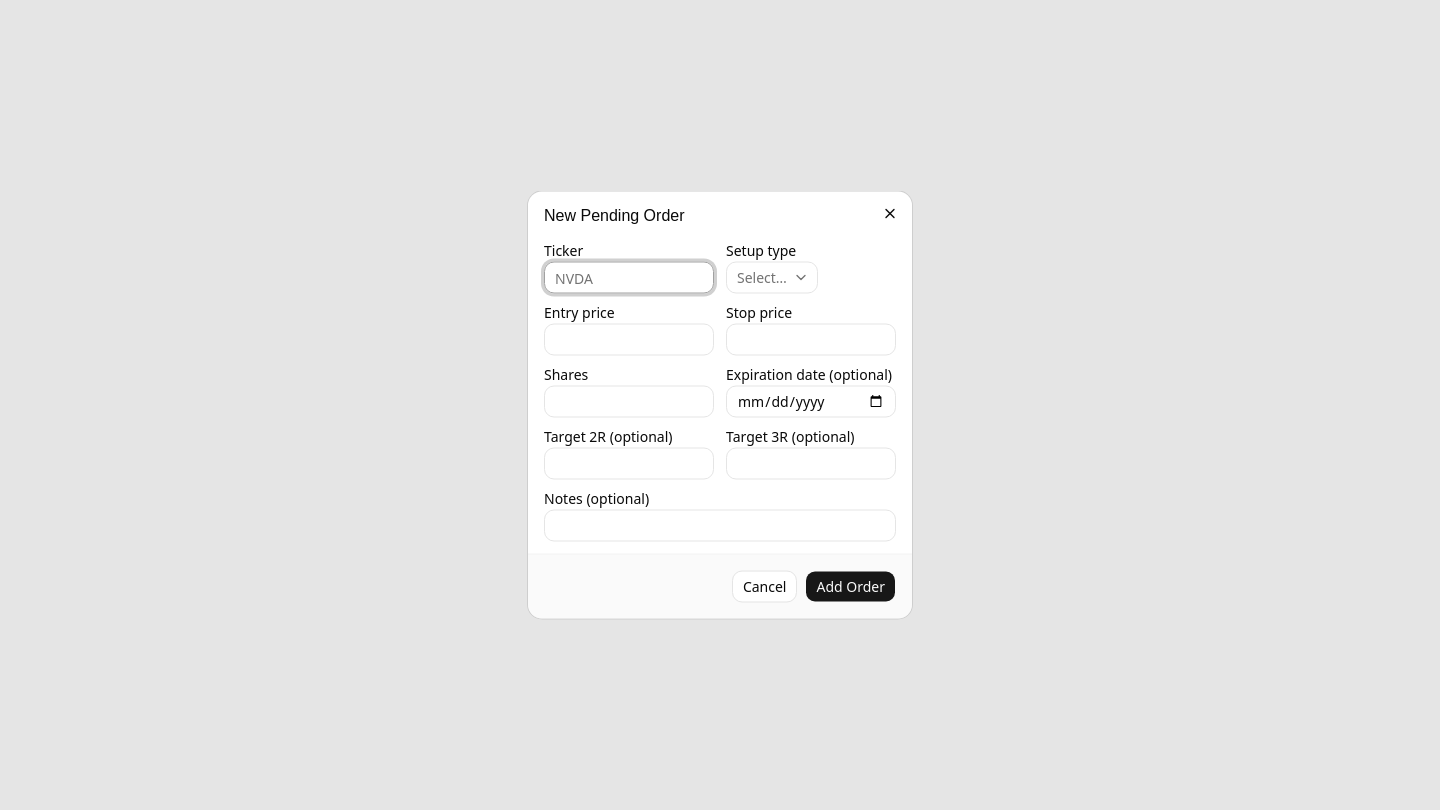
S15 – validation failures › ticker empty → error, no POST
The width and height of the screenshot is (1440, 810).
In the number field labelled "Entry price": (629, 340) [544,324,714,356], type "900"
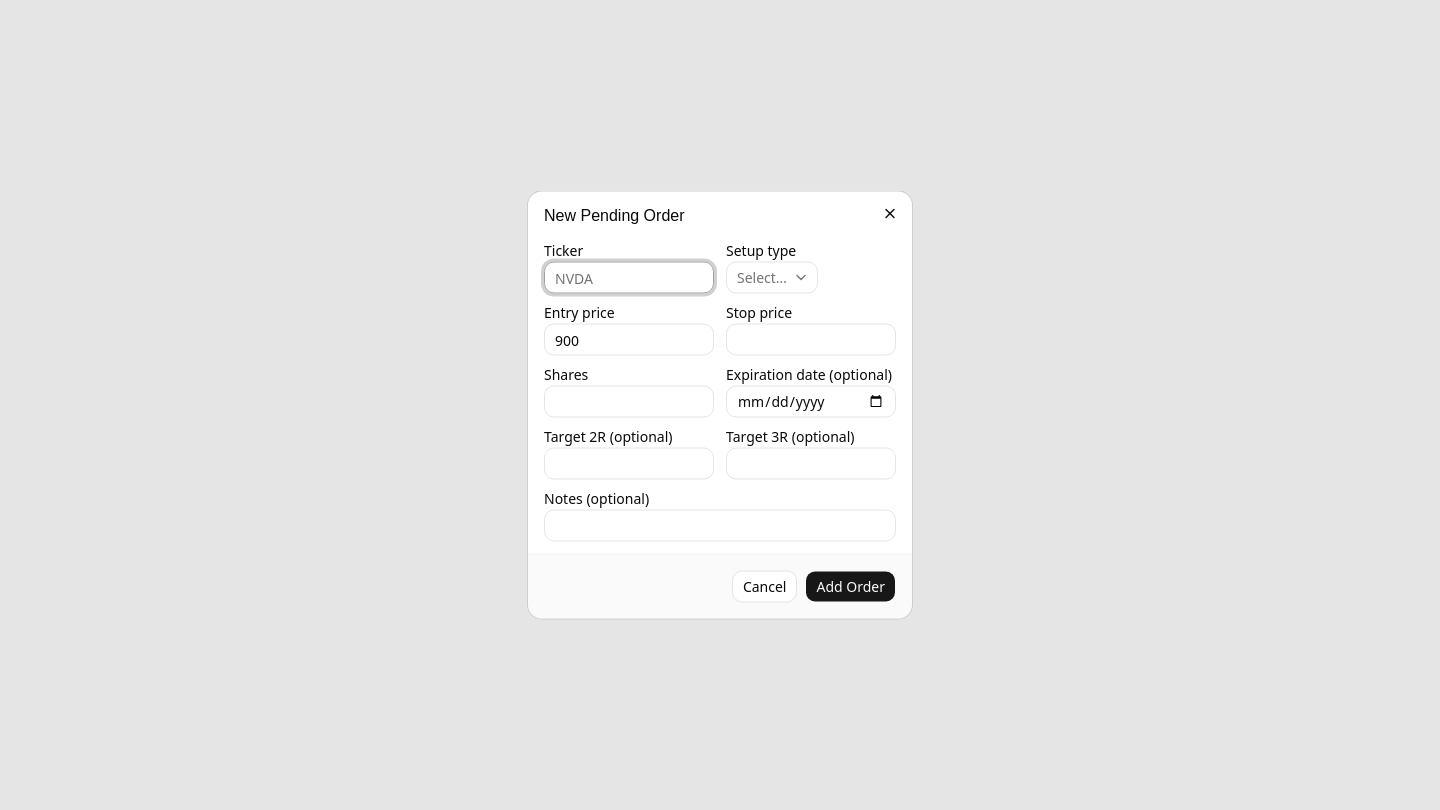
In the number field labelled "Stop price": (811, 340) [726,324,896,356], type "860"
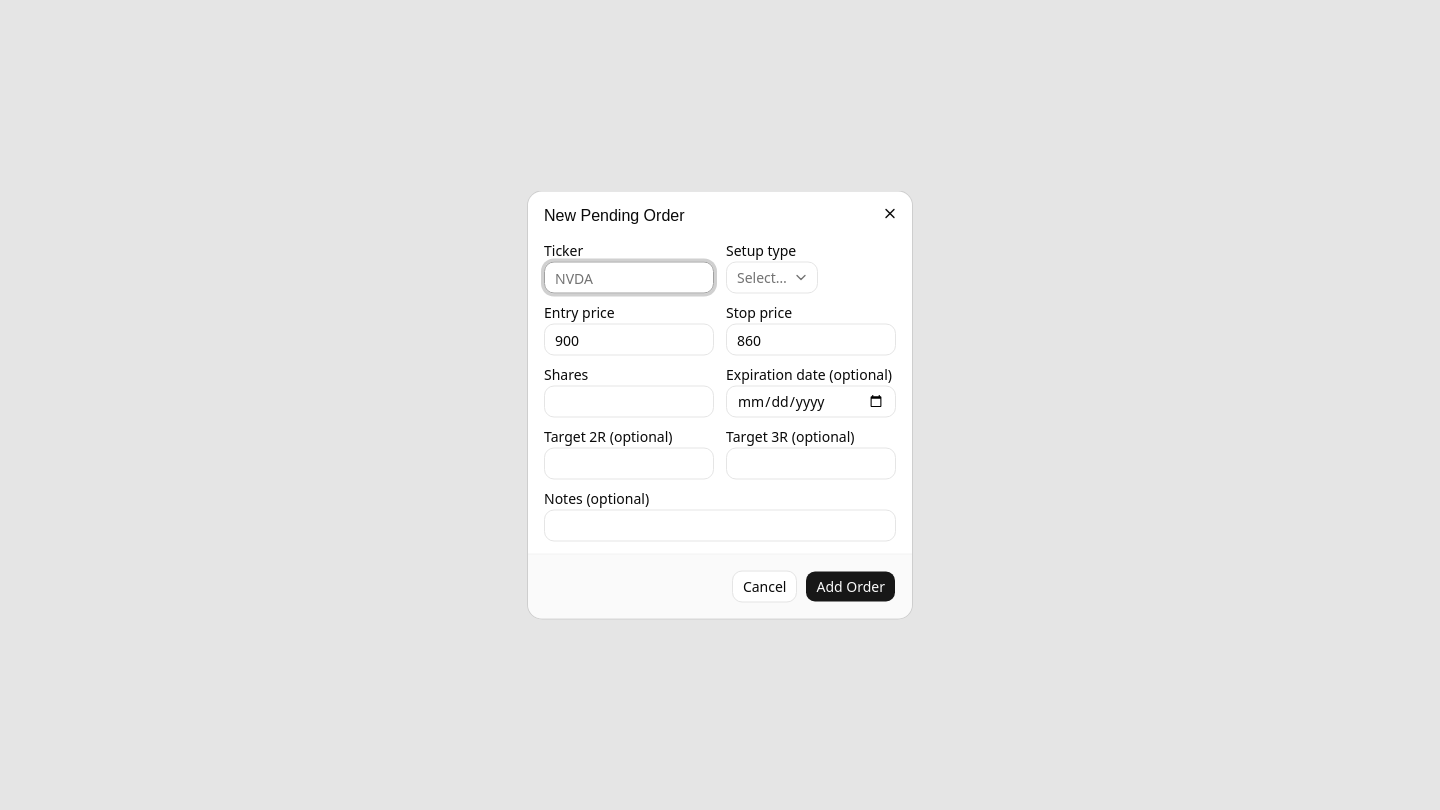
In the number field labelled "Shares": (629, 402) [544,386,714,418], type "20"
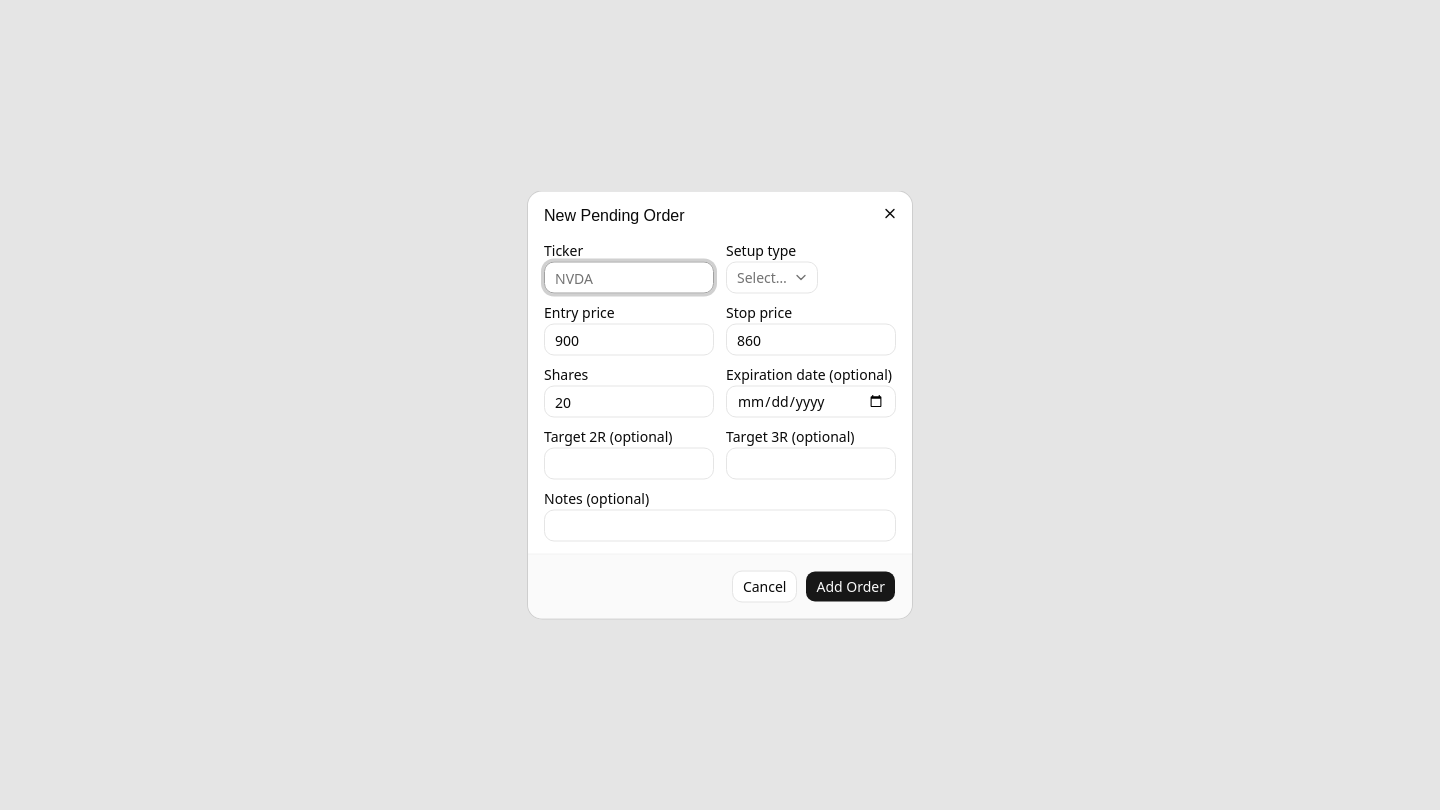
Click the button "Add Order": click(851, 586) [806,570,896,602]
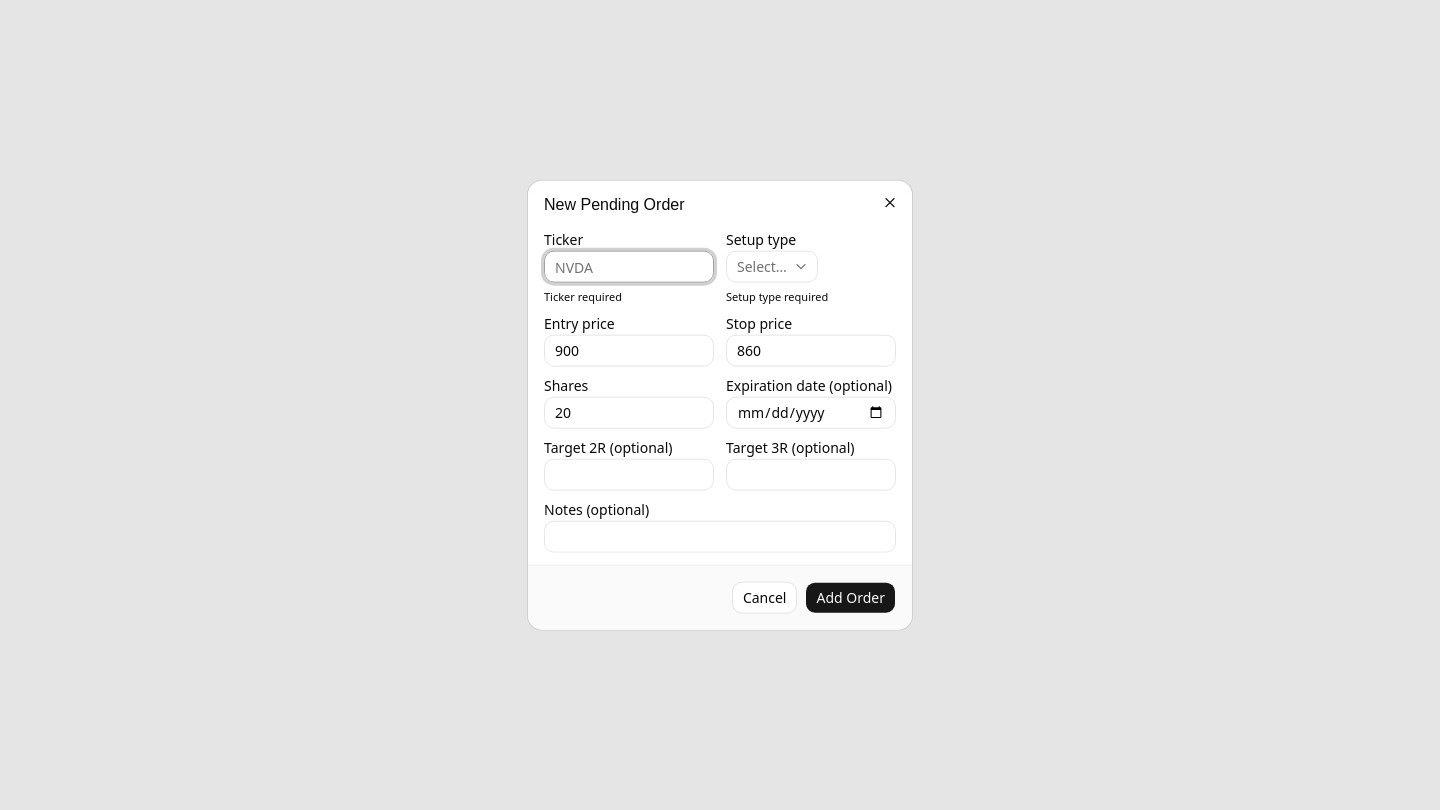
Now the text "Ticker required" is shown, box [544,289,622,304]
